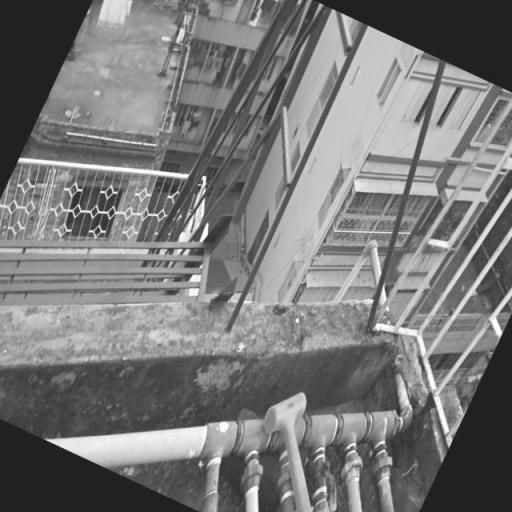mallet: (215, 381, 382, 512)
